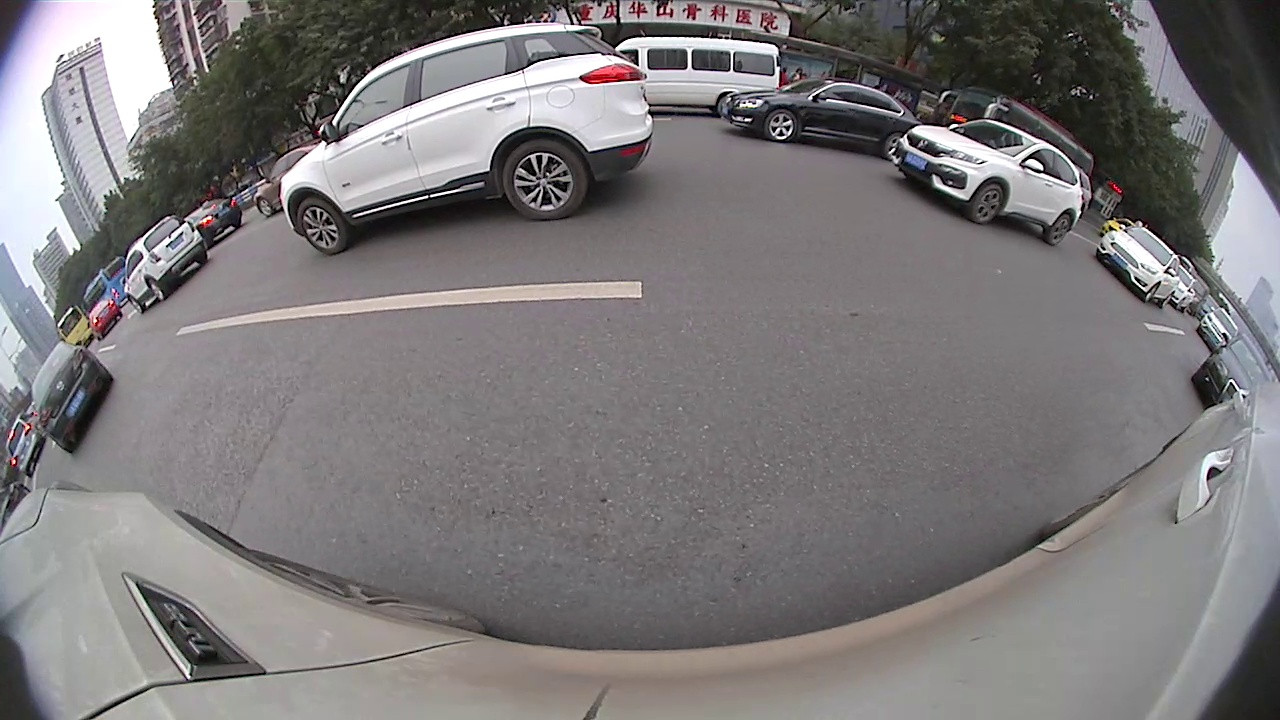bus: (933, 85, 1095, 190), (83, 257, 135, 310)
car: (277, 22, 657, 258), (889, 118, 1085, 247), (717, 77, 921, 164), (603, 35, 780, 122), (29, 340, 114, 455), (124, 214, 209, 313), (1096, 225, 1180, 311), (1190, 334, 1274, 411), (253, 144, 326, 216), (174, 198, 243, 250), (2, 413, 44, 479), (1197, 307, 1239, 349), (55, 302, 93, 348), (88, 298, 123, 339), (1100, 215, 1139, 240)
front: (294, 195, 350, 255), (970, 184, 1004, 223), (764, 110, 799, 143), (256, 194, 275, 216), (1142, 282, 1159, 303), (126, 293, 143, 313), (1174, 298, 1184, 311)
rear: (503, 139, 590, 220), (1046, 213, 1071, 247), (145, 276, 169, 303), (883, 132, 904, 160), (1158, 292, 1173, 310), (1183, 301, 1192, 314)
